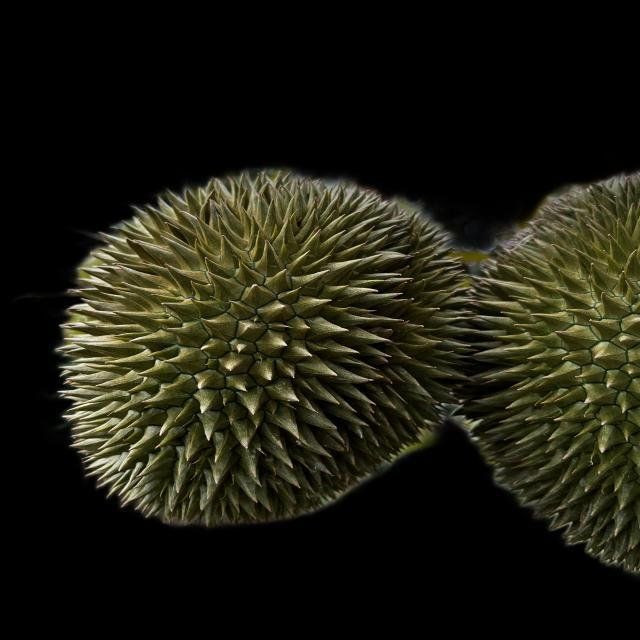immature: (56, 164, 470, 542)
